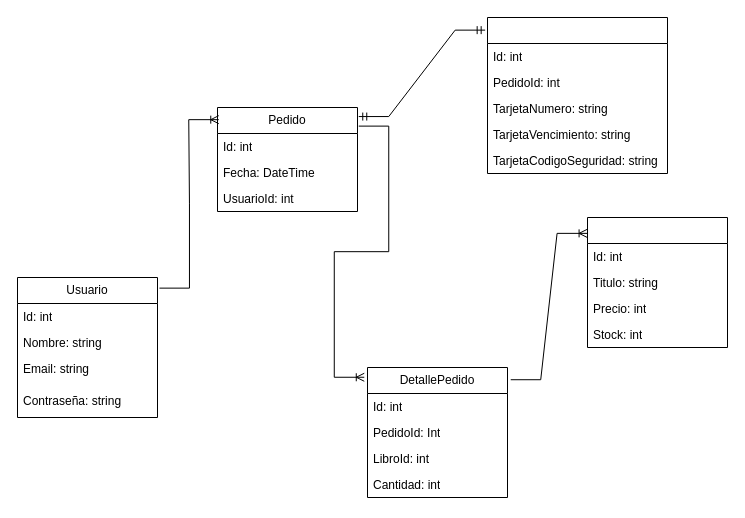
This 745x518 diagram has some shape labels left out. The shapes that lost their labels are listed below. From the top down, each one's box as (x1, y1, x2, y2) in pixels, then its label:
(486, 16, 668, 174): Pago
(586, 216, 728, 348): Libro
